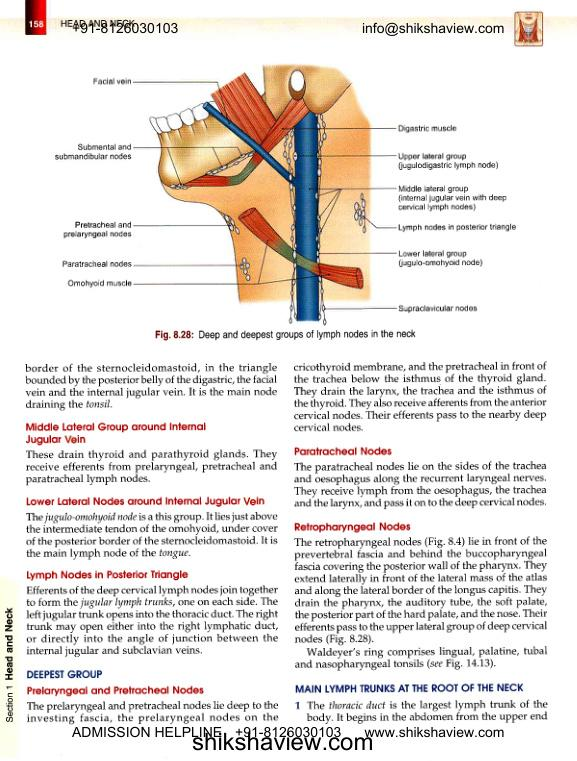caption: (154, 329, 417, 342)
image: (46, 50, 531, 327)
list: (294, 700, 549, 724)
sub-section-heading: (24, 421, 207, 446), (25, 496, 266, 508), (26, 685, 205, 698), (25, 569, 189, 582), (294, 683, 525, 692), (294, 521, 411, 534), (293, 446, 393, 456), (26, 669, 104, 680)
text: (292, 536, 549, 671), (24, 585, 279, 658), (293, 361, 546, 433), (24, 511, 279, 561), (24, 362, 278, 412), (293, 461, 548, 509), (25, 449, 278, 487), (26, 701, 280, 725)
